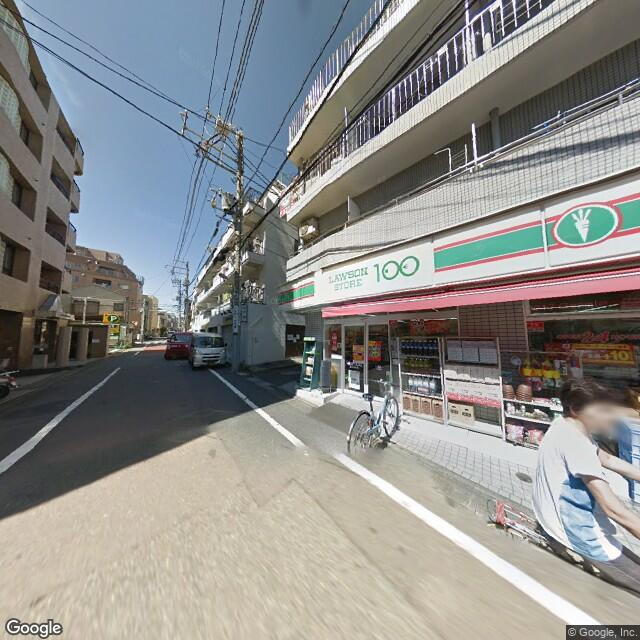lawson: (277, 179, 638, 312)
